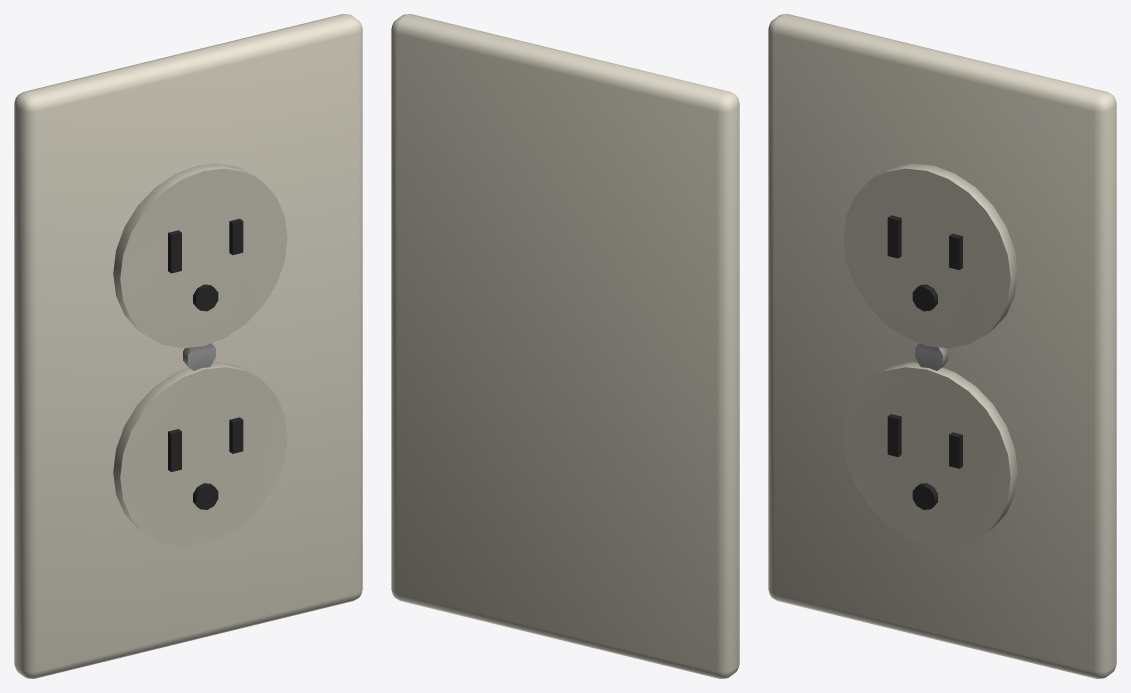
Rendered from outlet.glb.
3 views of the same model, side by side, from view 1: azimuth 30°, elevation 25°; view 2: azimuth 150°, elevation 25°; view 3: azimuth 330°, elevation 25° (orthographic).
Visible parts, largest first — view 1: outlet; view 2: outlet; view 3: outlet.
Boxes of the visible parts, <box> form: outlet: <box>14,14,362,678</box>; outlet: <box>391,14,739,678</box>; outlet: <box>768,14,1116,678</box>.
Size of the model in its own units: 0.07 by 0.1143 by 0.0097.
